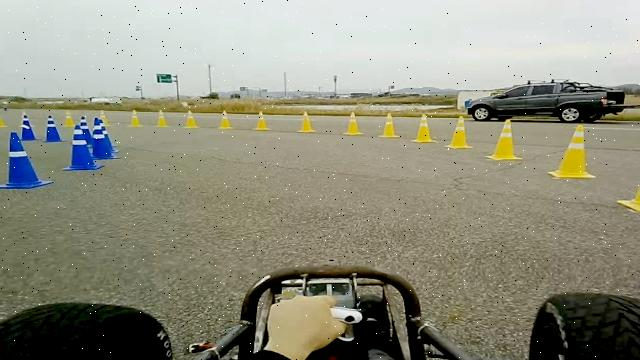blue cone: (0, 131, 53, 189), (80, 119, 125, 164), (59, 129, 102, 173), (92, 117, 120, 153), (18, 111, 39, 141), (73, 115, 93, 146), (41, 114, 63, 142)
yellow cone: (547, 124, 596, 178), (485, 118, 522, 161), (444, 115, 473, 149), (616, 177, 640, 212), (411, 113, 438, 143), (378, 111, 400, 138), (342, 111, 363, 135), (296, 110, 315, 132), (251, 110, 270, 130), (217, 109, 234, 130), (183, 109, 199, 128), (127, 109, 143, 127), (154, 109, 170, 127), (62, 110, 75, 126), (98, 109, 110, 126), (0, 110, 8, 127)
